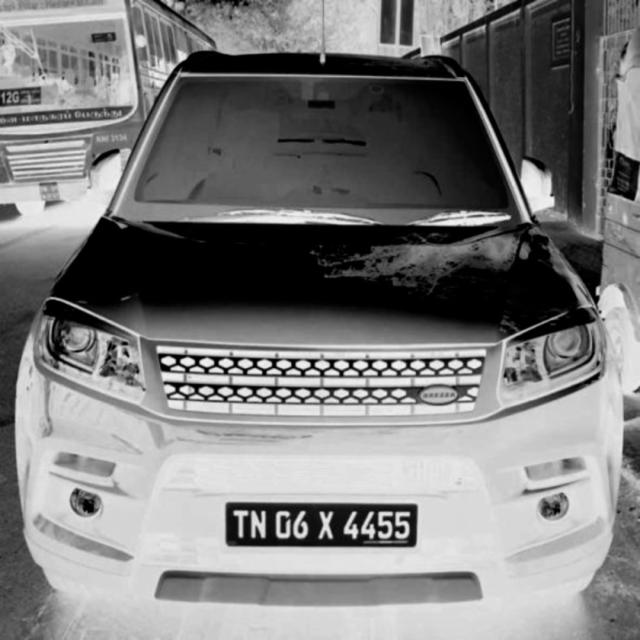Non_registered: (228, 500, 416, 550)
